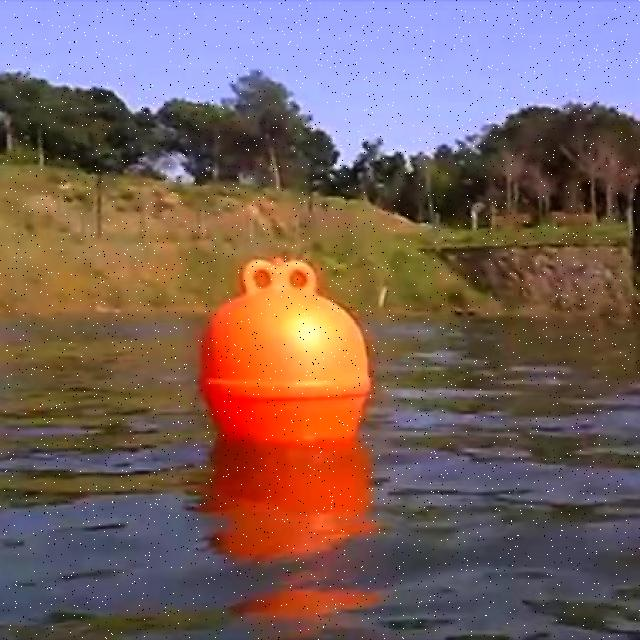buoy: (199, 260, 371, 443)
